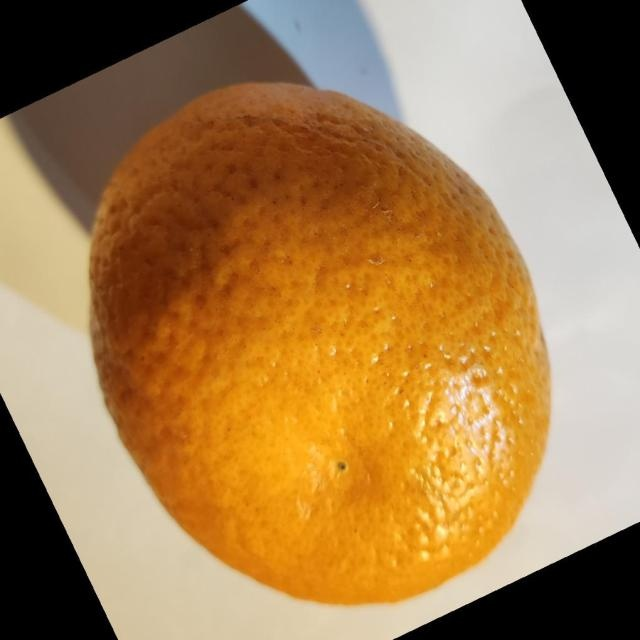agrume: (86, 80, 553, 606)
